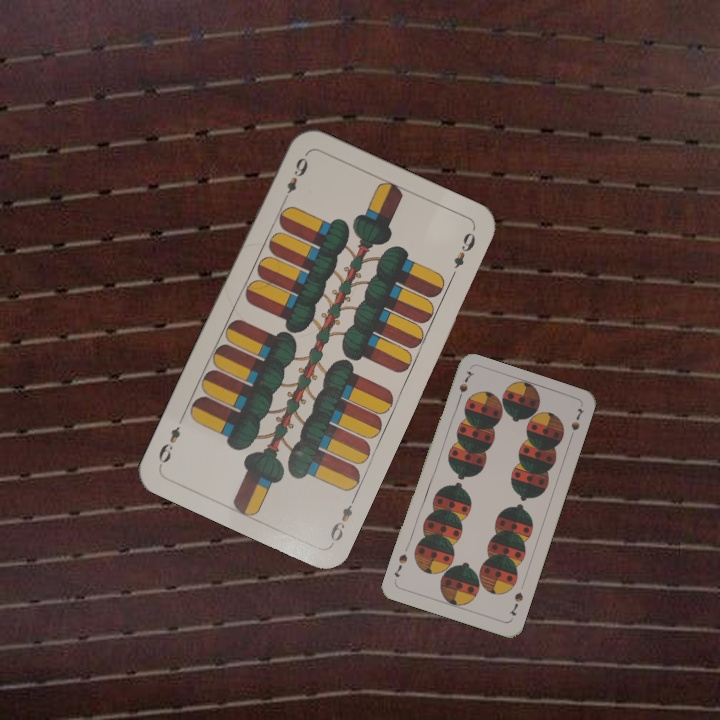E9: (326, 492, 359, 547), (279, 150, 311, 205)
S7: (505, 588, 525, 618), (453, 379, 470, 406)
